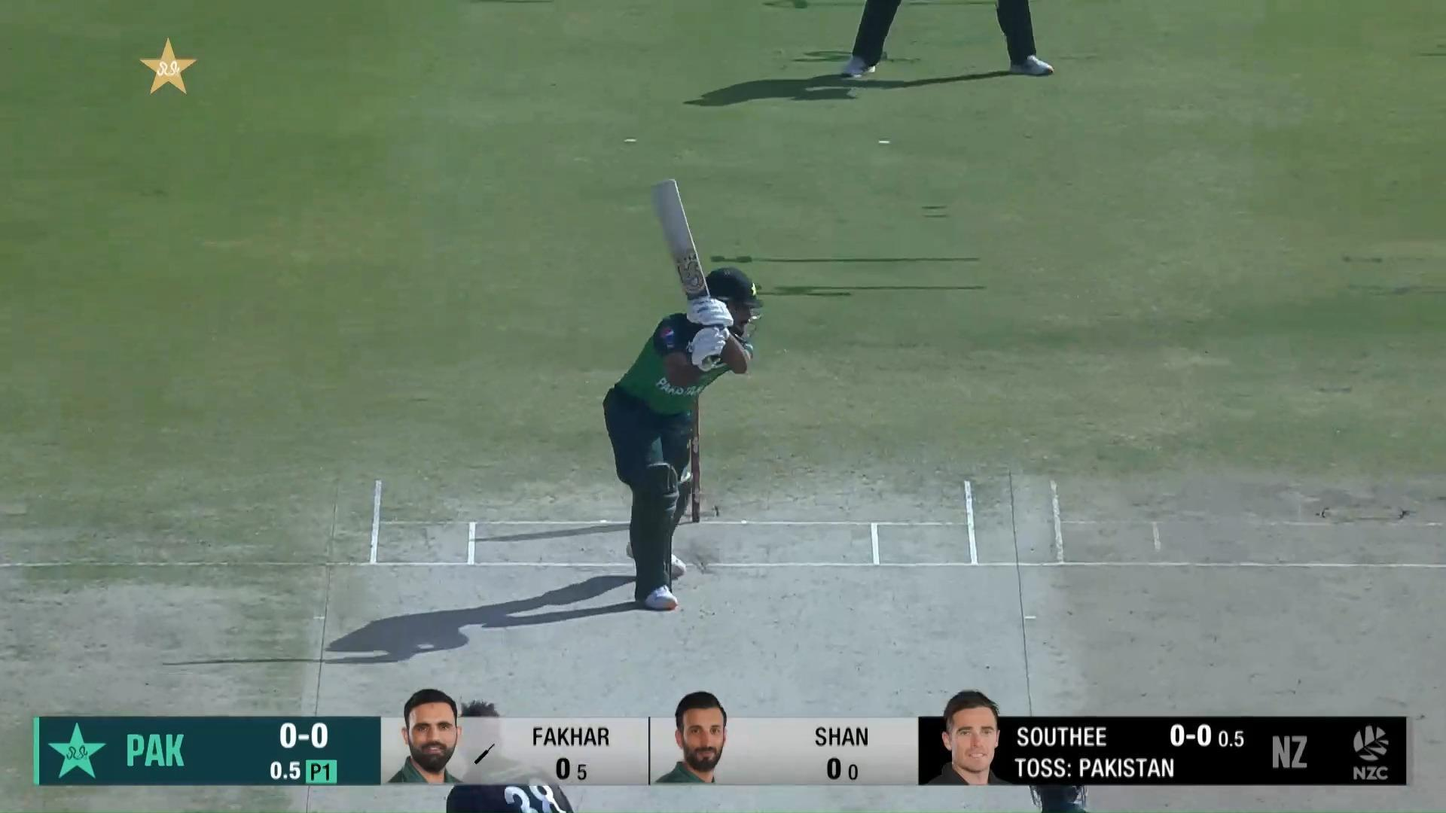BM 1: (601, 174, 766, 611)
BO: (445, 700, 573, 813)
